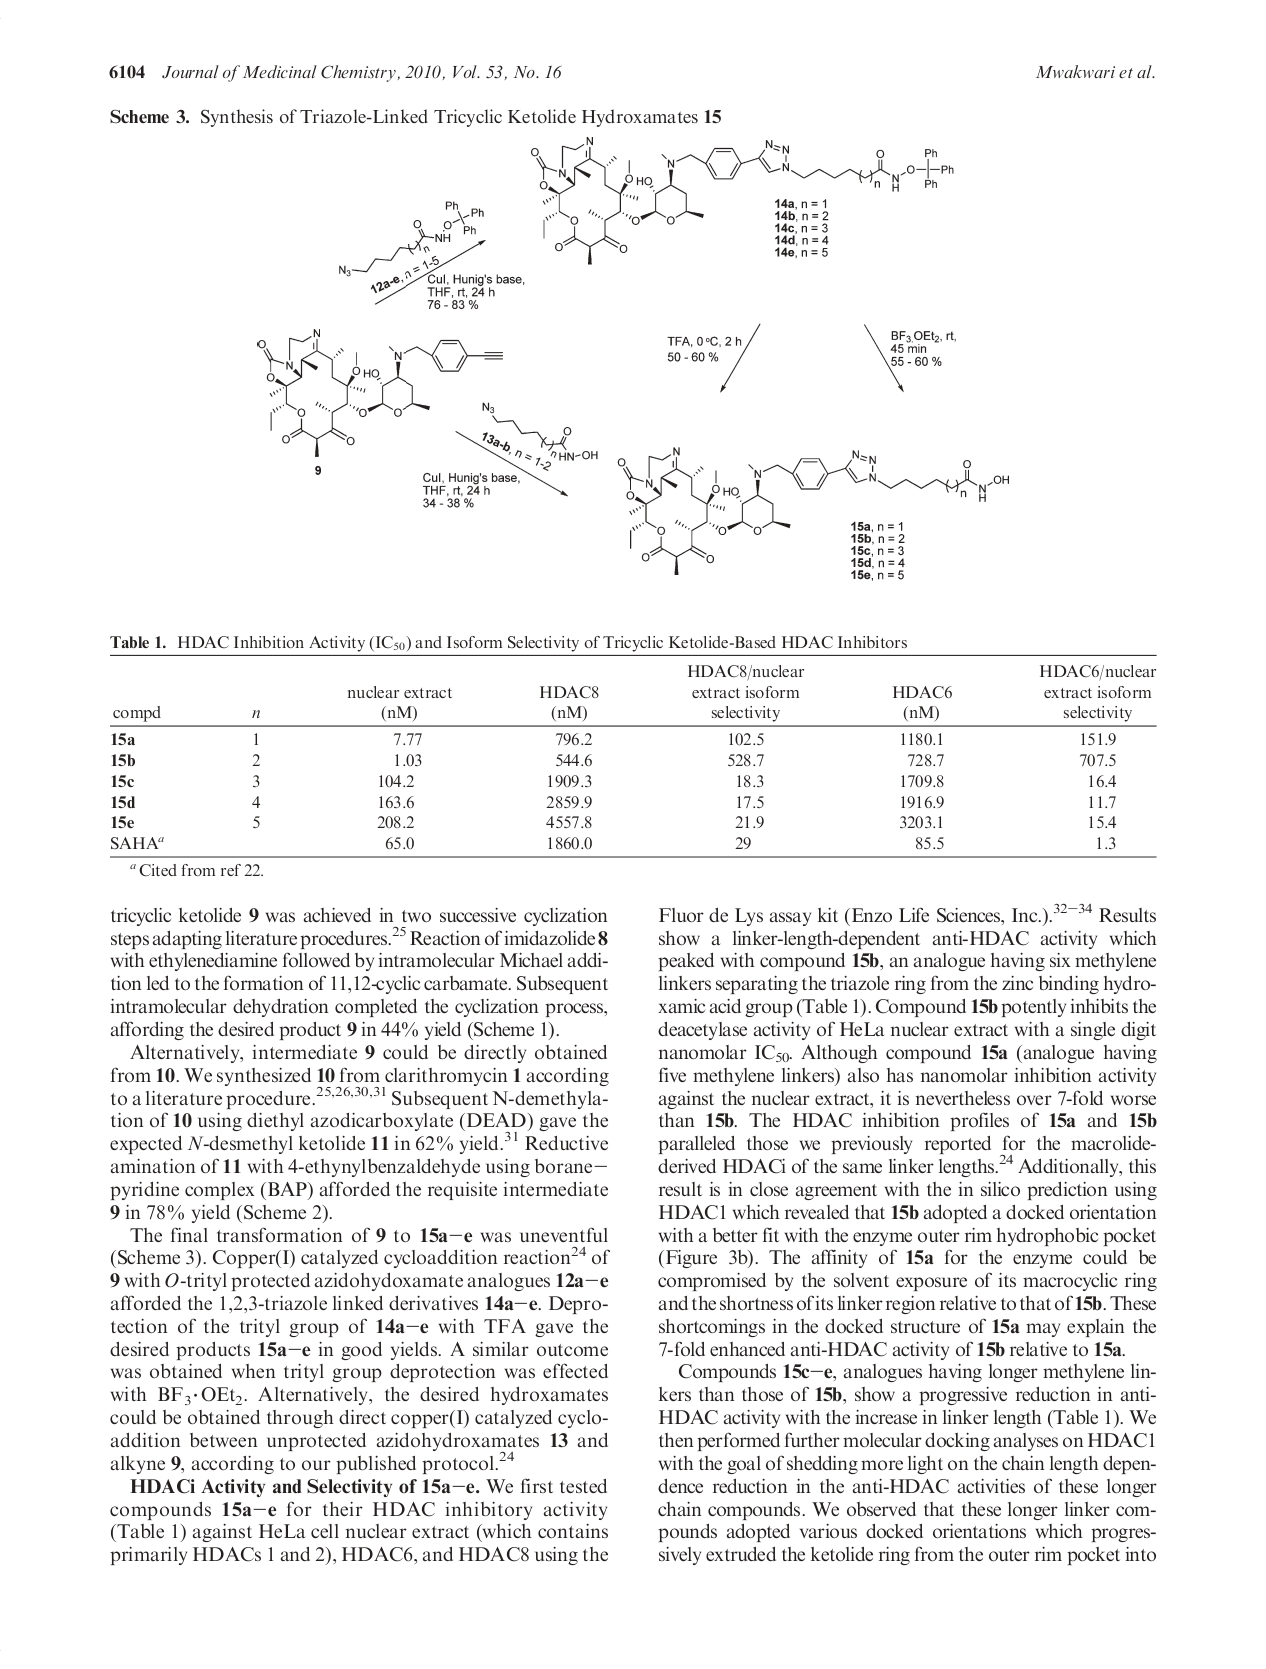exist_molecular: (529, 136, 956, 267), (617, 444, 1012, 577), (257, 327, 507, 457), (334, 198, 489, 279), (477, 398, 602, 463)
